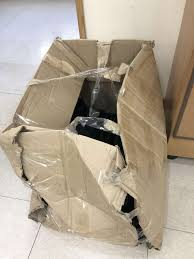damaged package: (68, 62, 163, 250), (15, 126, 48, 220)
